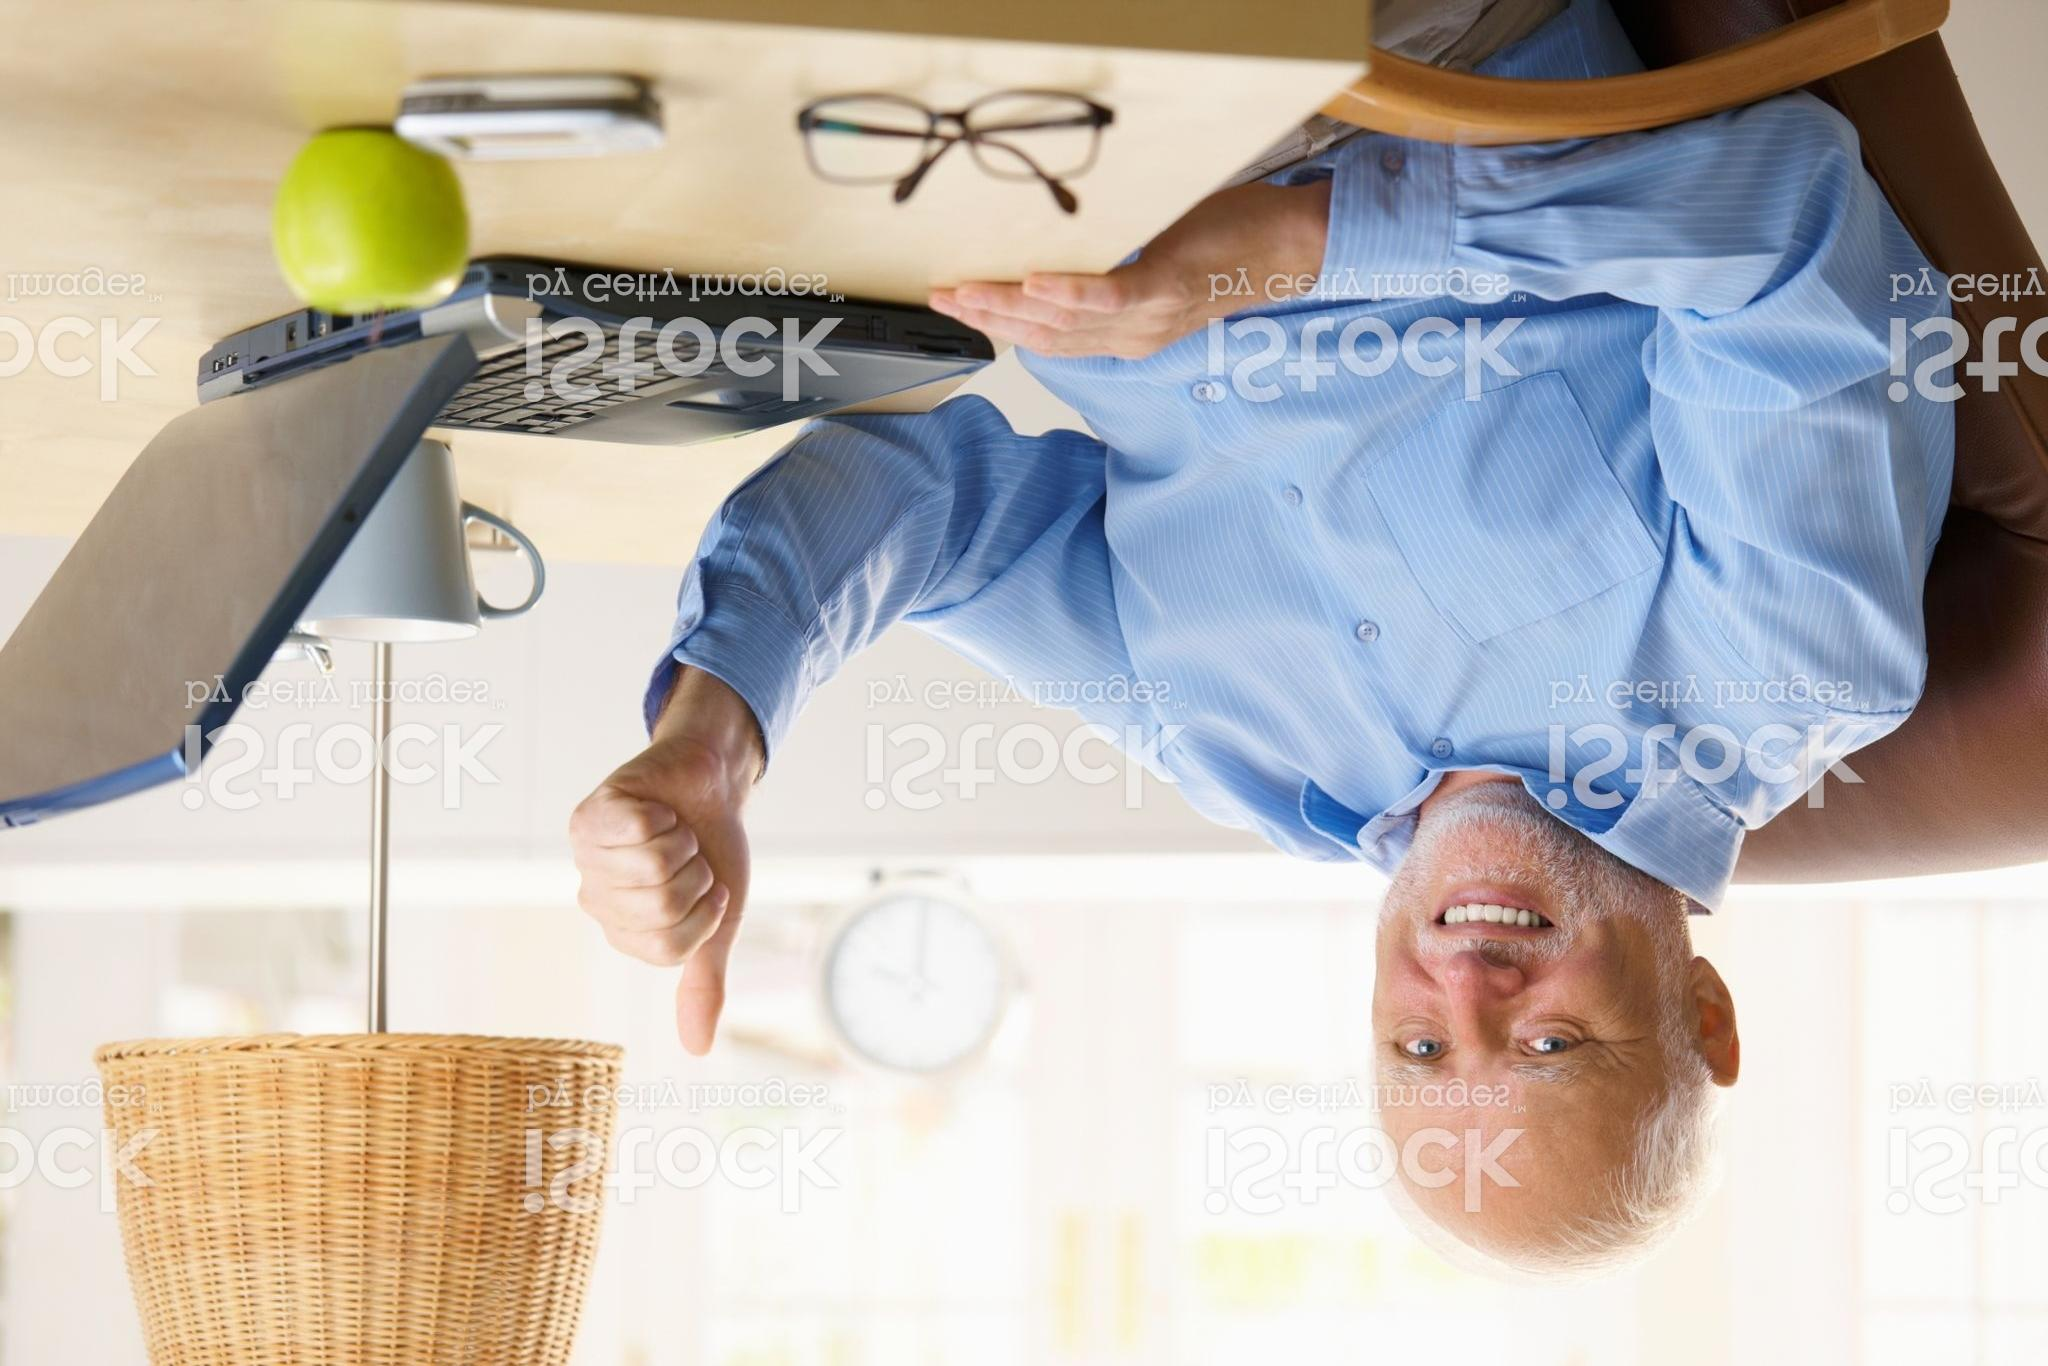thumbsdown: (568, 791, 728, 1058)
